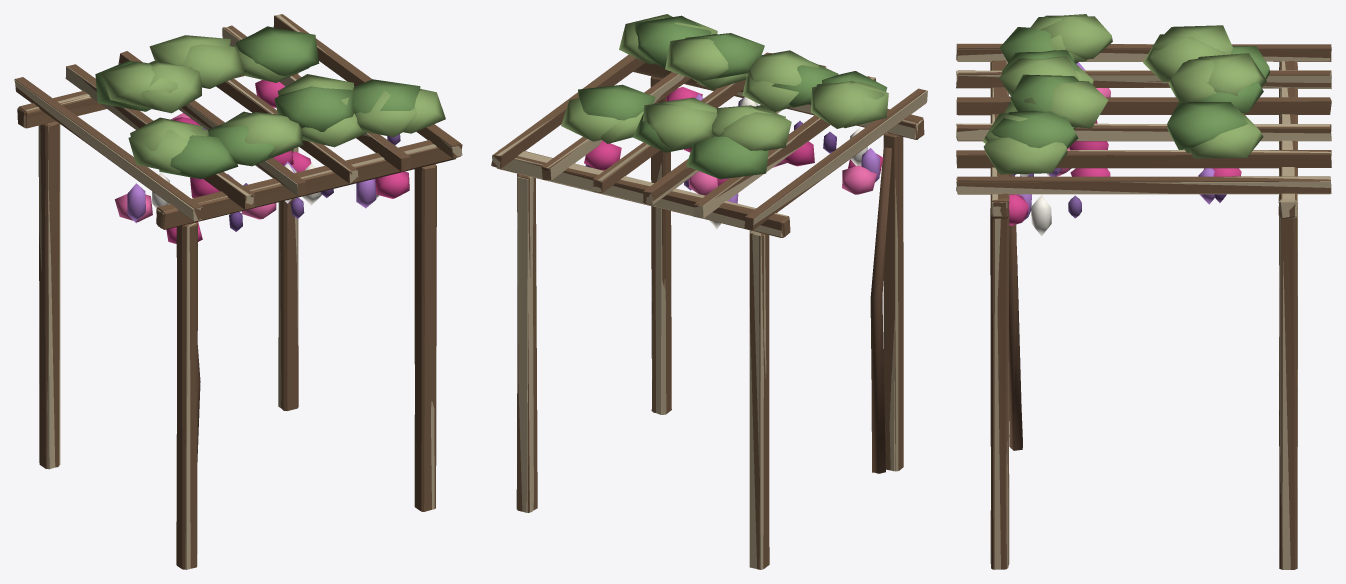
The model's file is pergola.glb.
The picture shows the model from 3 angles, left to right: view 1: azimuth 30°, elevation 25°; view 2: azimuth 150°, elevation 25°; view 3: azimuth 270°, elevation 25°; orthographic projection. The views are drawn at different scales.
Parts seen in each view (by area): view 1: pergola.v1.trunk, pergola.v0.trunk, pergola.v0.canopy, pergola.v2.canopy, pergola.v2.trunk, pergola.v1.canopy; view 2: pergola.v2.trunk, pergola.v0.trunk, pergola.v1.trunk, pergola.v0.canopy, pergola.v2.canopy, pergola.v1.canopy; view 3: pergola.v0.trunk, pergola.v2.trunk, pergola.v1.trunk, pergola.v1.canopy, pergola.v0.canopy, pergola.v2.canopy.
Boxes of the visible parts, x1,y1,x2,y2 form: pergola.v1.trunk: (15, 14, 460, 568); pergola.v0.trunk: (14, 15, 462, 569); pergola.v0.canopy: (95, 26, 420, 231); pergola.v2.canopy: (101, 35, 416, 223); pergola.v2.trunk: (14, 14, 462, 569); pergola.v1.canopy: (115, 26, 445, 243); pergola.v2.trunk: (492, 66, 927, 569); pergola.v0.trunk: (491, 58, 925, 568); pergola.v1.trunk: (493, 52, 925, 569); pergola.v0.canopy: (578, 15, 887, 190); pergola.v2.canopy: (601, 19, 884, 229); pergola.v1.canopy: (561, 14, 888, 195); pergola.v0.trunk: (956, 44, 1331, 569); pergola.v2.trunk: (956, 43, 1331, 569); pergola.v1.trunk: (956, 44, 1331, 569); pergola.v1.canopy: (983, 14, 1263, 225); pergola.v0.canopy: (991, 27, 1269, 218); pergola.v2.canopy: (983, 15, 1266, 236).
Size of the model in its own units: 2.11 by 2.89 by 2.21.
